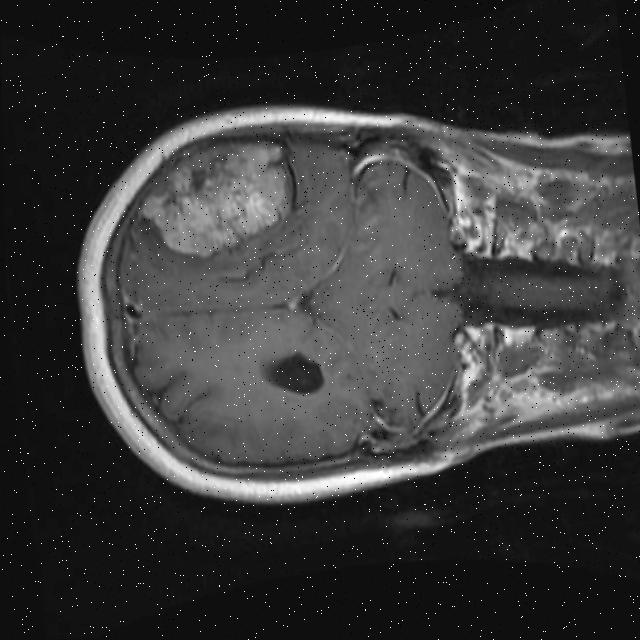Meningioma: (132, 136, 297, 265)
